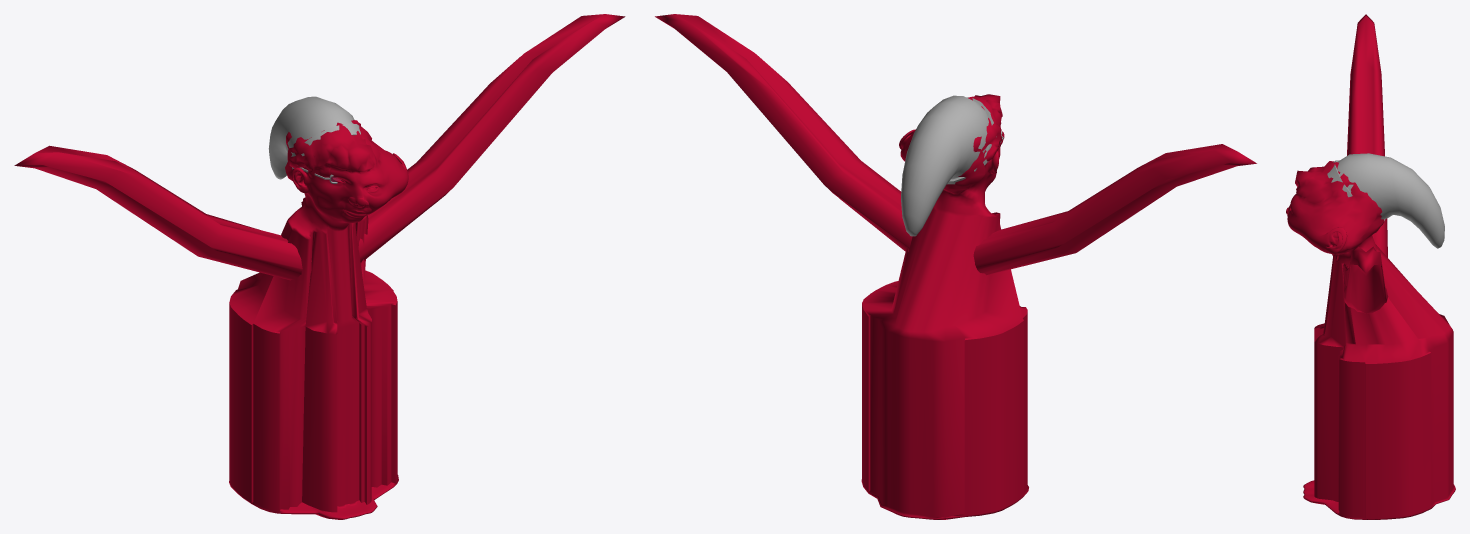
The model's file is blendered 2.fbx.
3 views of the same model, side by side, from view 1: azimuth 30°, elevation 25°; view 2: azimuth 150°, elevation 25°; view 3: azimuth 270°, elevation 25° (orthographic). The views are drawn at different scales.
Parts seen in each view (by area): view 1: pCube2, pasted__pSphere1; view 2: pCube2, pasted__pSphere1; view 3: pCube2, pasted__pSphere1.
Part boxes in pixels (x1,y1,x2,y2): pCube2: (14, 14, 625, 519); pasted__pSphere1: (268, 96, 360, 179); pCube2: (655, 14, 1256, 519); pasted__pSphere1: (901, 95, 996, 236); pCube2: (1286, 14, 1455, 519); pasted__pSphere1: (1327, 153, 1444, 248).
Bounding box in the file's own units: 179 × 114 × 49.41.
